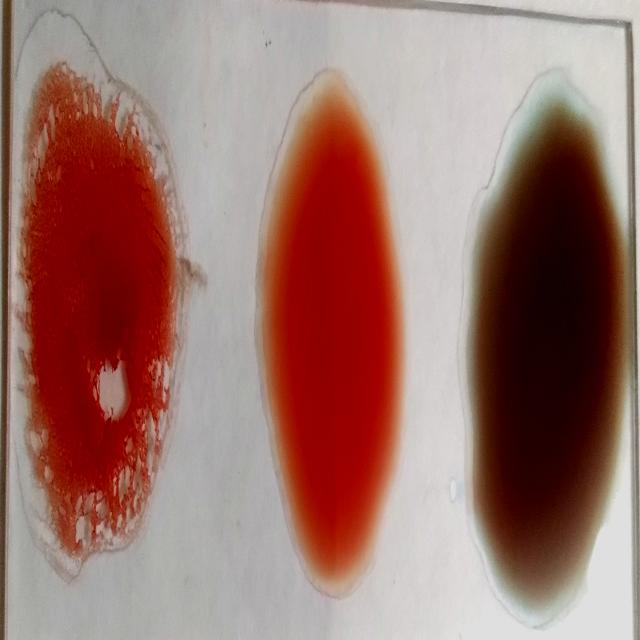D: (9, 33, 178, 579)
